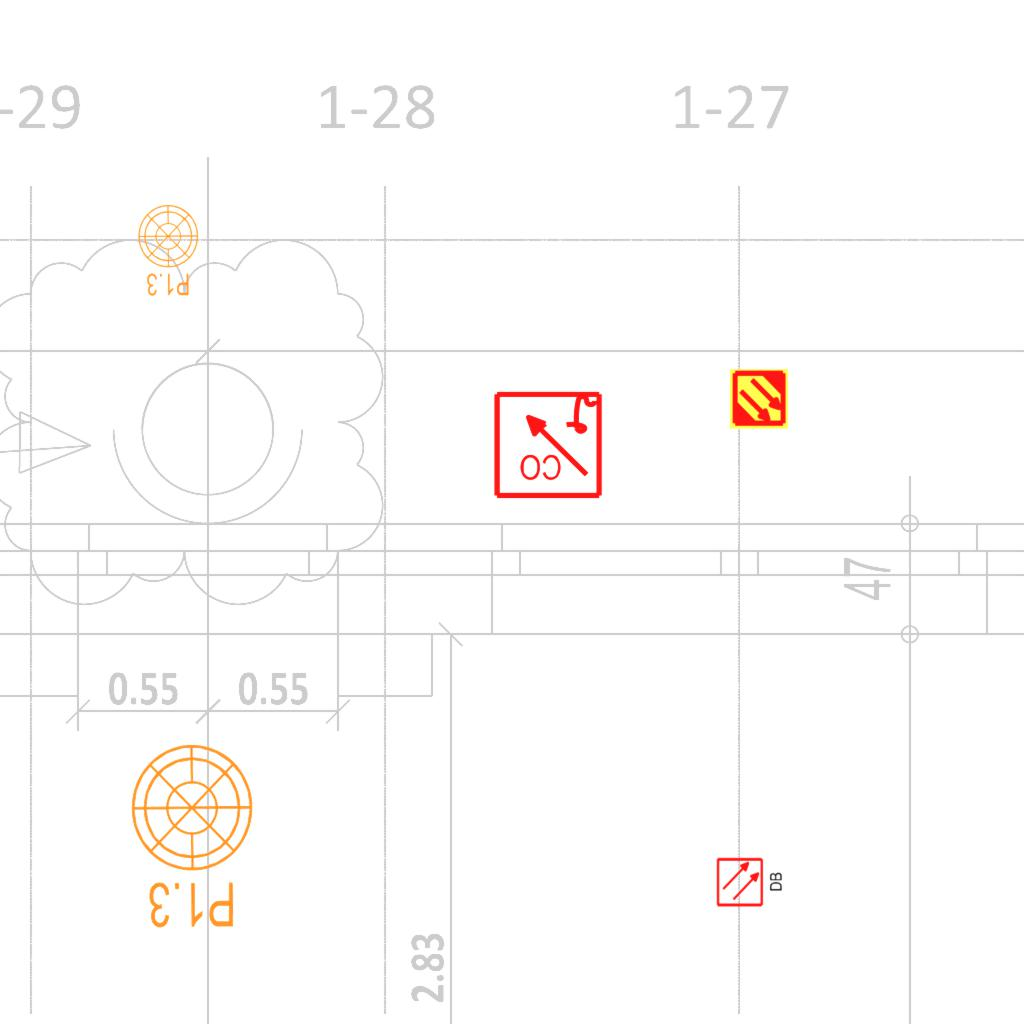ASR_Ansaugrauchmelder: (728, 368, 790, 430)
Aufbaurundleuchte_LED_Treppenhaus: (117, 741, 256, 946), (131, 203, 200, 305)
DB_Melder_in_Doppelboden_mit_Revisionsoeffnung_mind_40_x_40_cm: (713, 853, 787, 910)
ROA_Rauchmelder_optisch_mit_Signalgeber_(Sockelsirene): (491, 387, 604, 500)
